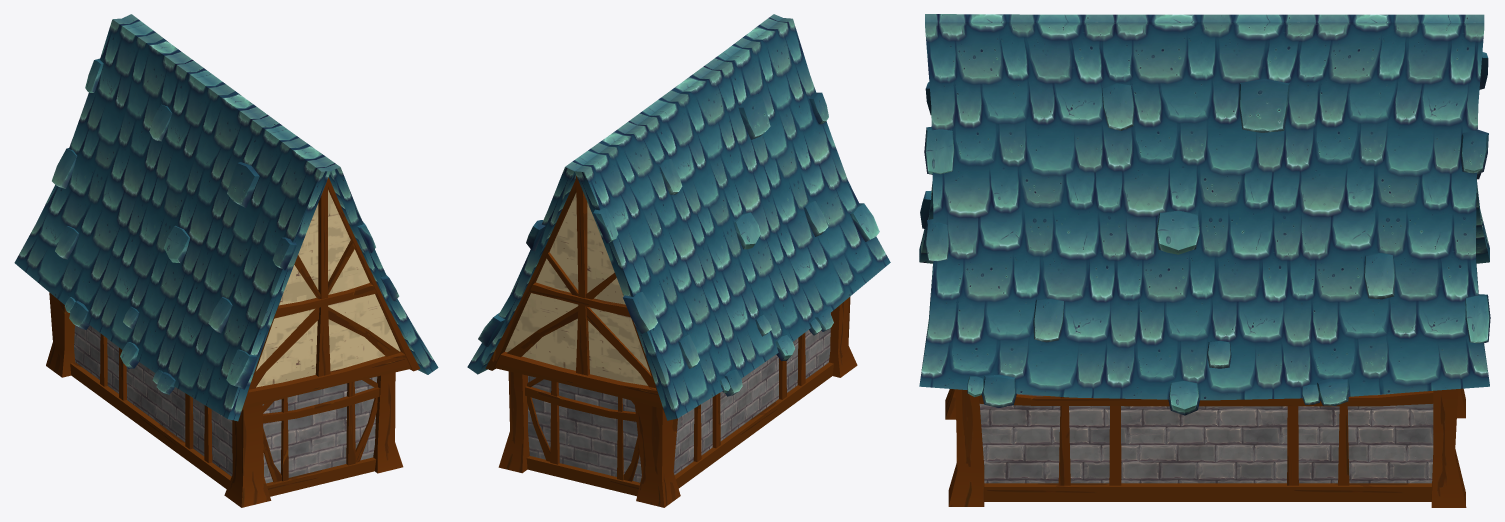
The model's file is SM_BLD_body_v04_01.glb.
The picture shows the model from 3 angles, left to right: view 1: azimuth 30°, elevation 25°; view 2: azimuth 150°, elevation 25°; view 3: azimuth 270°, elevation 25°; orthographic projection. The views are drawn at different scales.
Parts seen in each view (by area): view 1: SM_BLD_body_v04_01_EXPORT; view 2: SM_BLD_body_v04_01_EXPORT; view 3: SM_BLD_body_v04_01_EXPORT.
Boxes of the visible parts, <box> form: SM_BLD_body_v04_01_EXPORT: <box>14,14,438,507</box>; SM_BLD_body_v04_01_EXPORT: <box>467,14,890,507</box>; SM_BLD_body_v04_01_EXPORT: <box>919,14,1490,507</box>.
Size of the model in its own units: 7.59 by 10.78 by 12.88.
4 materials, 4 textured.
